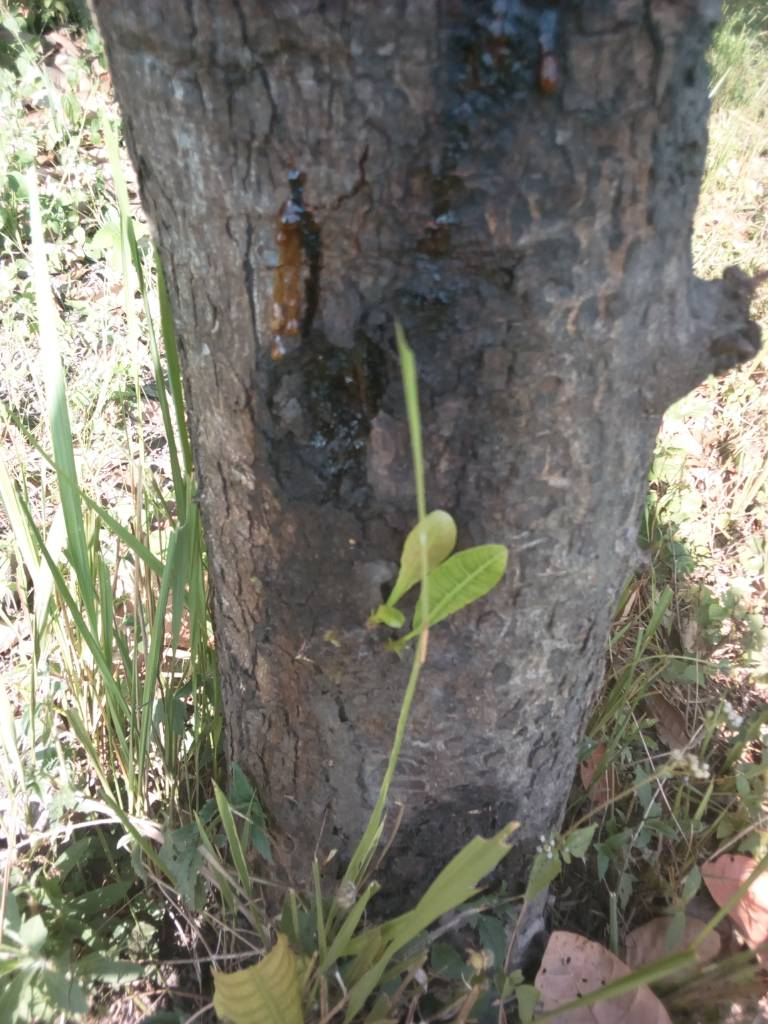Mecocorynus longiceps: (213, 180, 389, 368)
